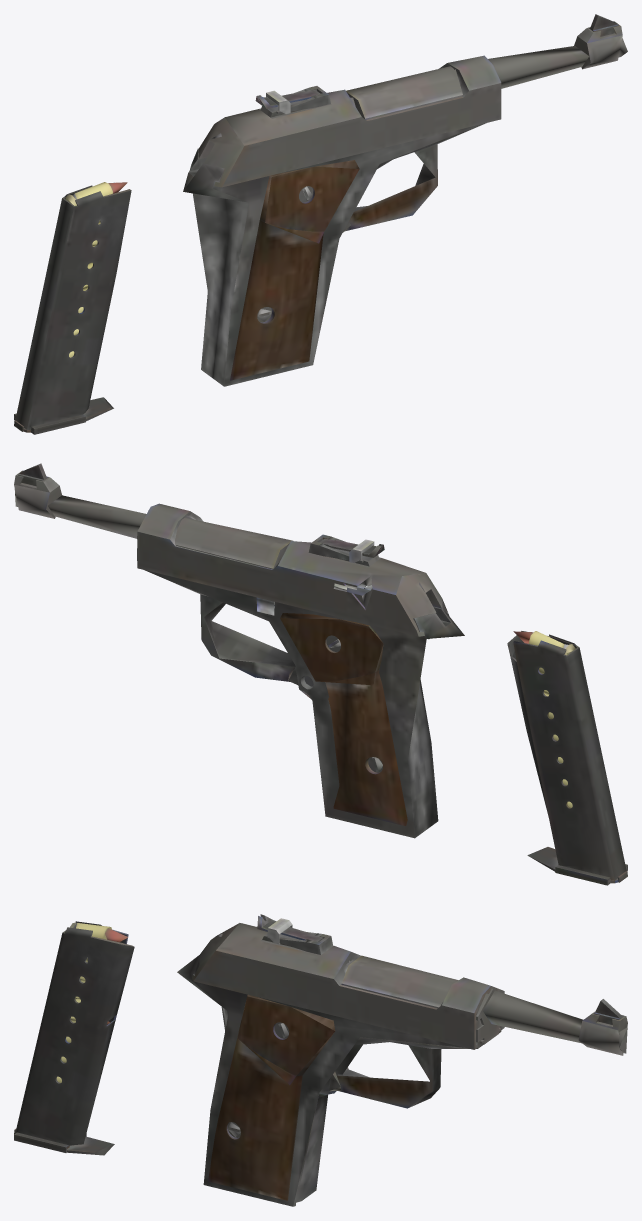
File: pistol_lo.glb
The picture shows the model from 3 angles, top to bottom: view 1: azimuth 30°, elevation 25°; view 2: azimuth 150°, elevation 25°; view 3: azimuth 330°, elevation 25°; orthographic projection.
Visible parts, largest first — view 1: service_pistol_pistol_a, service_pistol_magazine_loaded, service_pistol_slide_a; view 2: service_pistol_pistol_a, service_pistol_magazine_loaded, service_pistol_slide_a; view 3: service_pistol_pistol_a, service_pistol_magazine_loaded, service_pistol_slide_a.
Boxes of the visible parts, x1,y1,x2,y2 form: service_pistol_pistol_a: (183,14,627,386); service_pistol_magazine_loaded: (14,182,131,434); service_pistol_slide_a: (198,55,501,187); service_pistol_pistol_a: (14,463,464,838); service_pistol_magazine_loaded: (507,631,627,885); service_pistol_slide_a: (137,503,449,636); service_pistol_pistol_a: (177,955,627,1206); service_pistol_magazine_loaded: (14,921,134,1155); service_pistol_slide_a: (192,914,504,1049).
Size of the model in its own units: 0.3016 by 0.1307 by 0.0313.
Materials: 1 (1 with a texture image).
